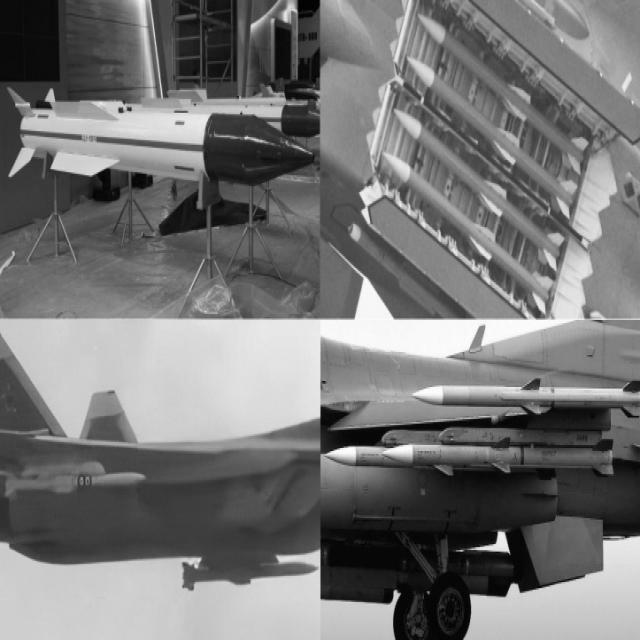Missile: (382, 433, 613, 476), (413, 380, 638, 417)
